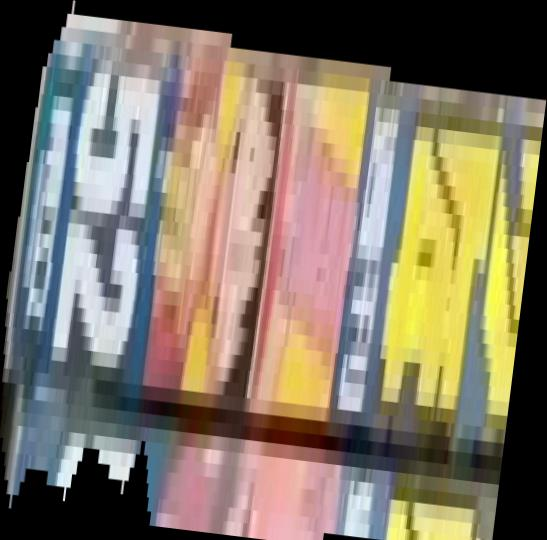flat: (1, 1, 547, 540)
